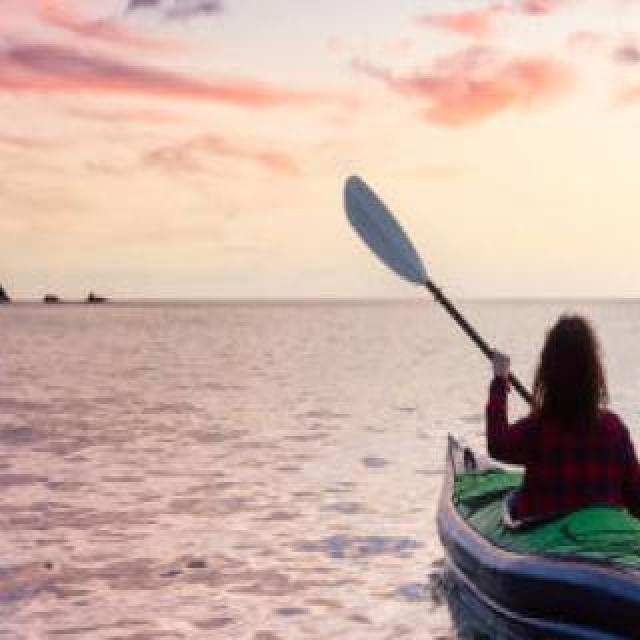kayak: (435, 436, 640, 640)
